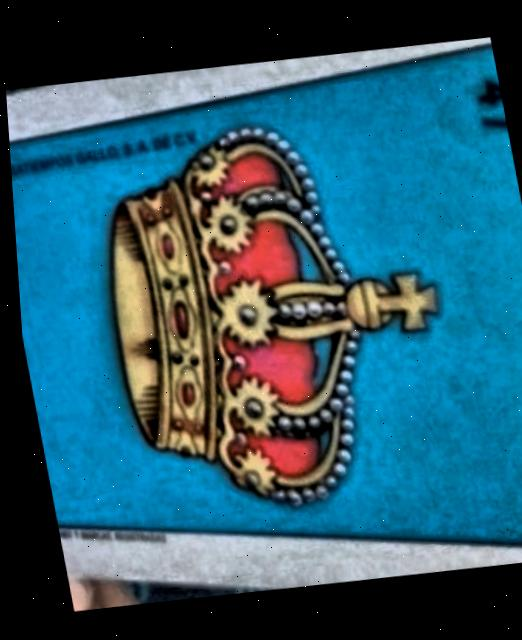La Corona: (8, 44, 522, 542)
